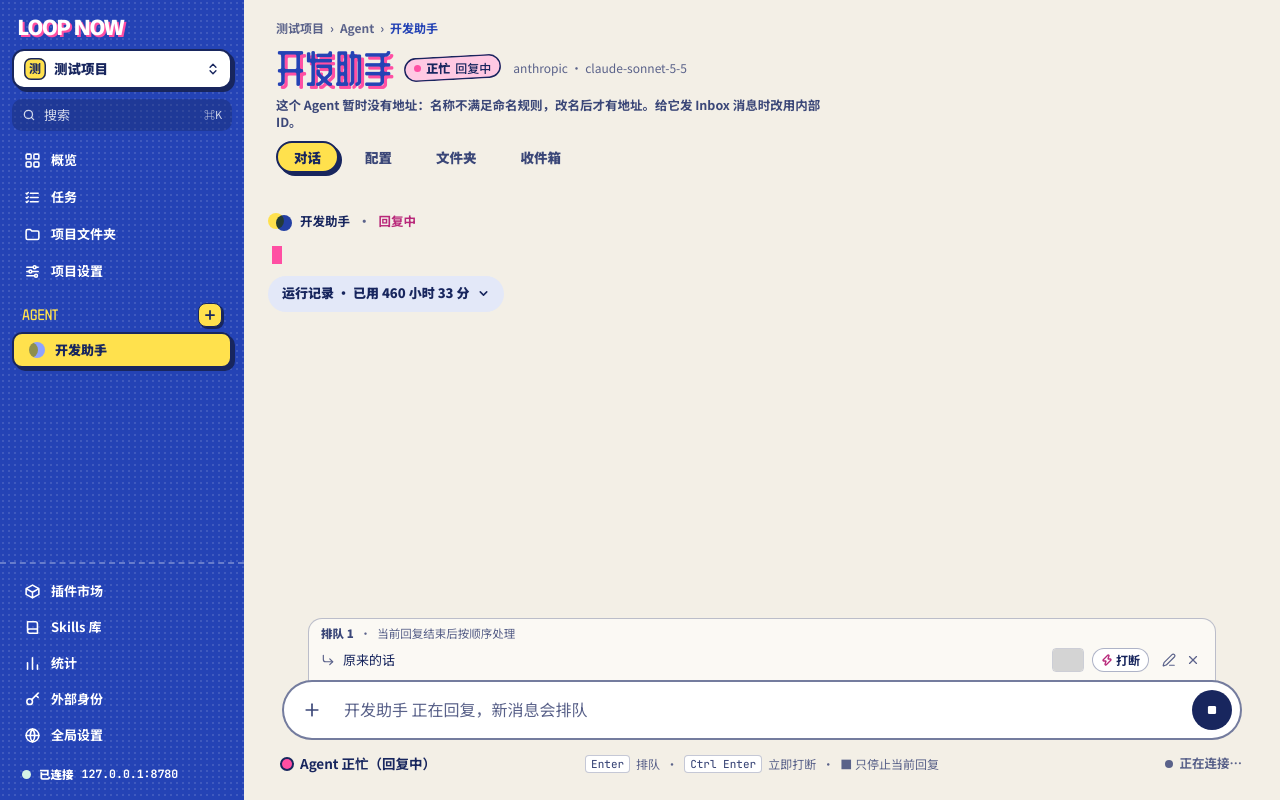
it: 输入框上方的排队托盘 › 编辑：先取回图片，再撤回这条消息，把原文与图片放回输入框，输入框里已有的文字保留在前面
This screenshot has width=1280, height=800.
Expected: the element showing "开发助手 · 回复中 运行记录 · 已用 460 小时 33 分" is shown, [268, 213, 504, 312]
Step 1. Type "先写的" into the text box labelled "消息" → (762, 710), box [340, 690, 1184, 730]
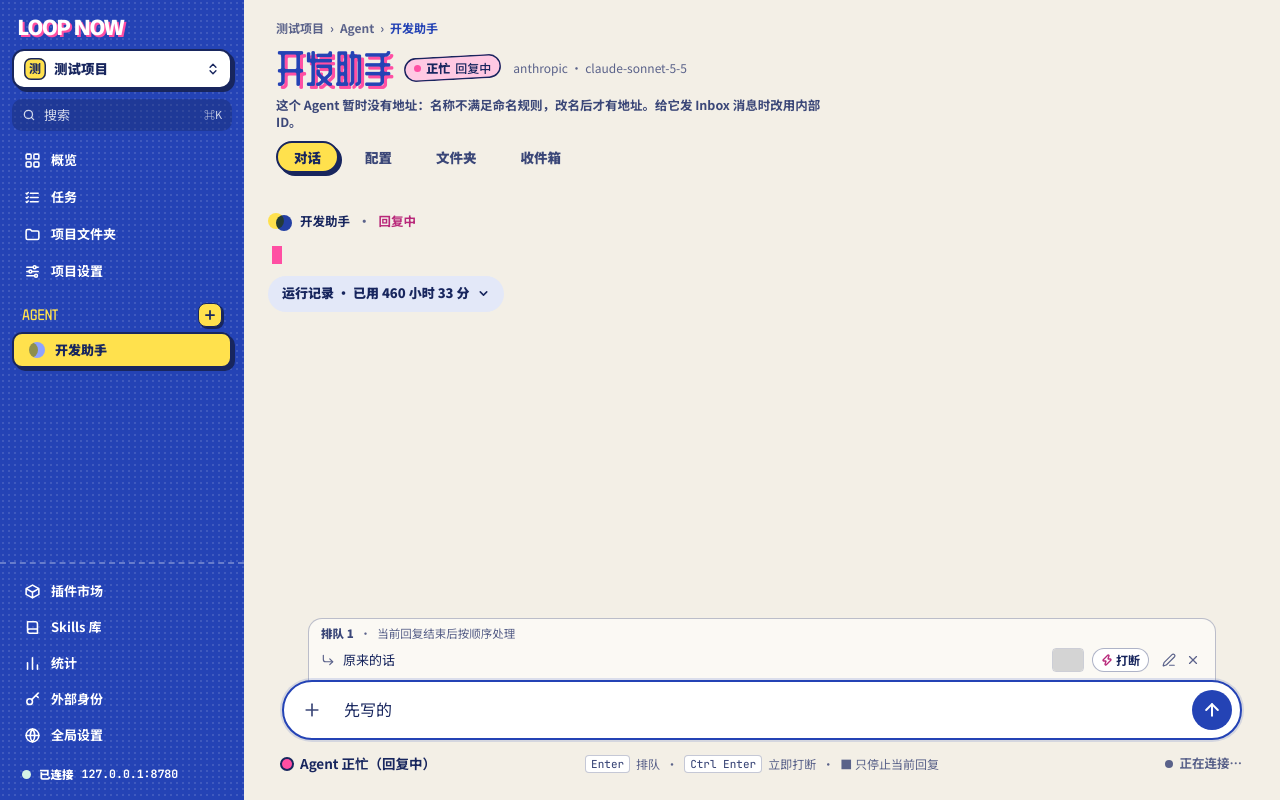
Step 2. Click the button named "编辑这条排队消息" → (1169, 660), box [1157, 648, 1181, 672]
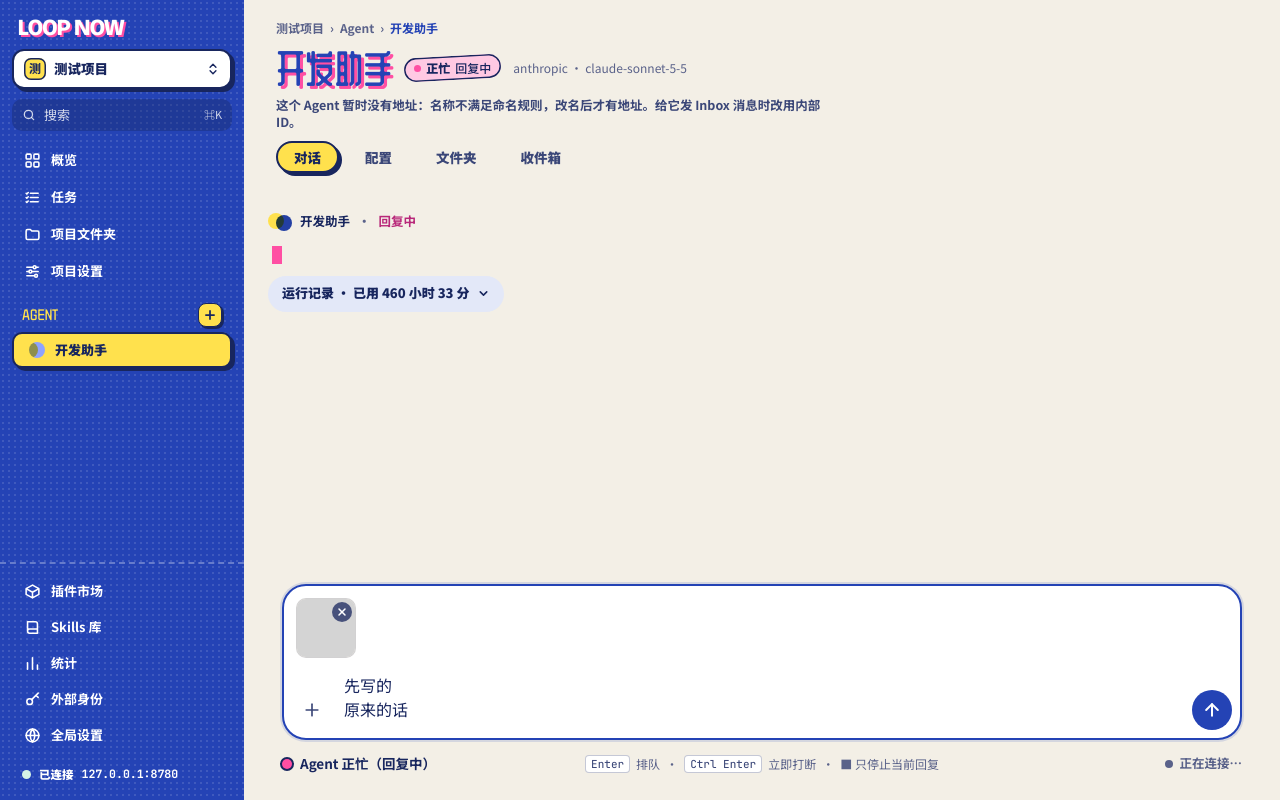
Now the button named "移除图片 1" is shown, box [332, 602, 352, 622]
Now the element "排队消息" is gone
